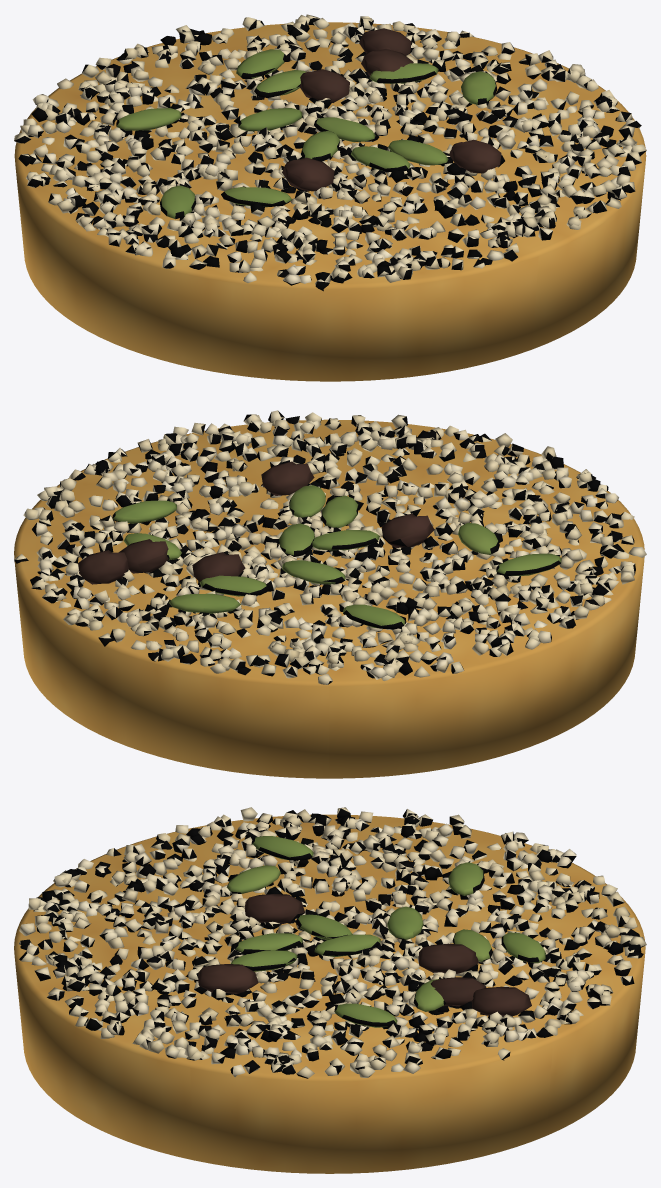
Rendered from dulce_alegria.gltf.
3 views of the same model, one above another, from view 1: azimuth 30°, elevation 25°; view 2: azimuth 150°, elevation 25°; view 3: azimuth 270°, elevation 25° (orthographic).
Visible parts, largest first — view 1: amaranto_compacto, granos_amaranto, pasa.004, pasa.002, pasa.001, pepita.008, pepita.009, pepita.004, pepita.007, pepita.003, pasa, pepita.001 (+7 smaller); view 2: amaranto_compacto, granos_amaranto, pasa.004, pasa, pasa.002, pasa.003, pepita.001, pepita.005, pepita.002, pepita.011, pepita.006, pepita.004 (+6 smaller); view 3: amaranto_compacto, granos_amaranto, pasa.002, pasa.004, pasa.001, pasa, pasa.003, pepita.010, pepita.011, pepita.006, pepita.003, pepita.008 (+7 smaller).
Boxes of the visible parts, left/top/right/bottom form: amaranto_compacto: left=14, top=22, right=646, bottom=381; granos_amaranto: left=14, top=14, right=646, bottom=291; pasa.004: left=282, top=157, right=334, bottom=191; pasa.002: left=449, top=139, right=501, bottom=173; pasa.001: left=300, top=69, right=349, bottom=102; pepita.008: left=221, top=187, right=292, bottom=207; pepita.009: left=116, top=108, right=181, bottom=130; pepita.004: left=238, top=108, right=302, bottom=131; pepita.007: left=388, top=140, right=448, bottom=165; pepita.003: left=351, top=146, right=410, bottom=172; pasa: left=359, top=28, right=411, bottom=55; pepita.001: left=236, top=49, right=286, bottom=78; amaranto_compacto: left=14, top=419, right=644, bottom=778; granos_amaranto: left=14, top=410, right=646, bottom=684; pasa.004: left=381, top=513, right=434, bottom=547; pasa: left=78, top=550, right=128, bottom=584; pasa.002: left=261, top=461, right=314, bottom=495; pasa.003: left=119, top=539, right=168, bottom=573; pepita.001: left=168, top=593, right=240, bottom=613; pepita.005: left=199, top=575, right=269, bottom=596; pepita.002: left=312, top=529, right=379, bottom=550; pepita.011: left=112, top=500, right=176, bottom=523; pepita.006: left=496, top=553, right=561, bottom=575; pepita.004: left=282, top=560, right=345, bottom=584; amaranto_compacto: left=14, top=814, right=645, bottom=1173; granos_amaranto: left=19, top=807, right=646, bottom=1078; pasa.002: left=198, top=964, right=258, bottom=995; pasa.004: left=245, top=894, right=305, bottom=924; pasa.001: left=418, top=943, right=478, bottom=973; pasa: left=471, top=986, right=531, bottom=1016; pasa.003: left=430, top=977, right=486, bottom=1008; pepita.010: left=314, top=934, right=380, bottom=956; pepita.011: left=334, top=1003, right=397, bottom=1027; pepita.006: left=251, top=836, right=313, bottom=860; pepita.003: left=235, top=933, right=302, bottom=954; pepita.008: left=226, top=865, right=280, bottom=893.
Size of the model in its own units: 0.104 by 0.0221 by 0.1042.
Materials: 4 (4 with a texture image).
